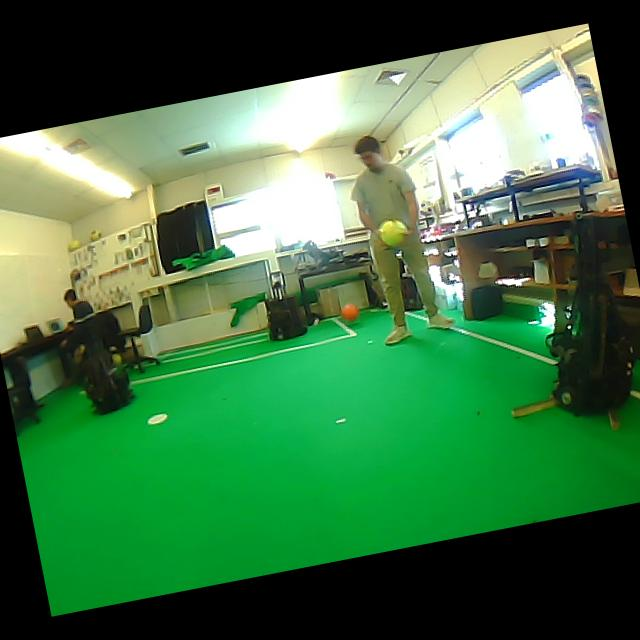ball: (377, 219, 409, 246), (341, 303, 359, 321), (68, 240, 82, 251), (90, 230, 102, 241), (112, 354, 122, 366)
robot: (549, 214, 635, 415), (82, 354, 135, 413), (266, 271, 307, 340)
